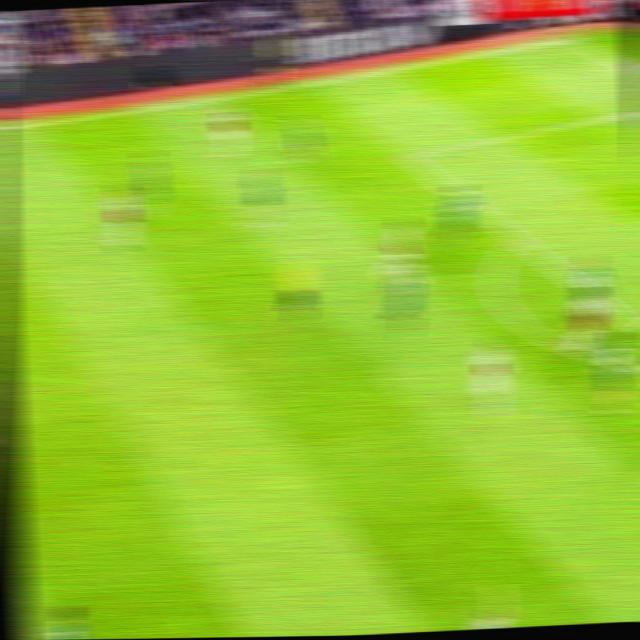bigarea_top_inner: (393, 142, 424, 168)
corner: (549, 29, 583, 47)
top_arc_area_intersection: (504, 226, 535, 249)
